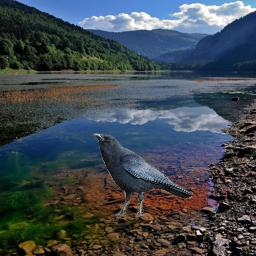Crow: (92, 133, 193, 218)
